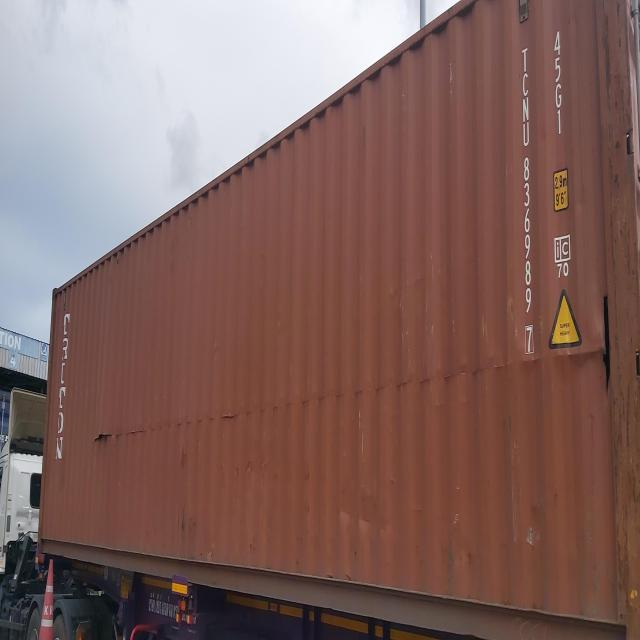hole: (94, 434, 114, 445)
